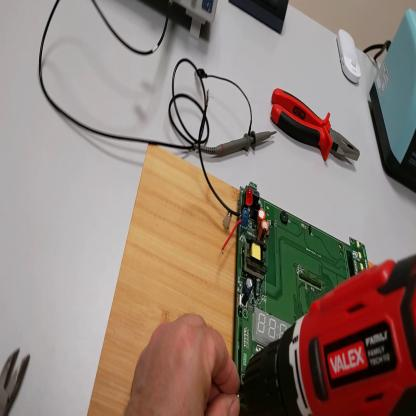electric screwdriver: (242, 252, 416, 416)
hand: (126, 310, 240, 416)
low voltage board: (198, 92, 369, 416)
oscilloscope: (166, 1, 218, 43)
oscilloscope probe tip: (210, 129, 277, 158)
pliers: (270, 89, 361, 166), (1, 348, 30, 414)
welder station: (371, 9, 416, 193)
working area: (89, 148, 374, 416)
